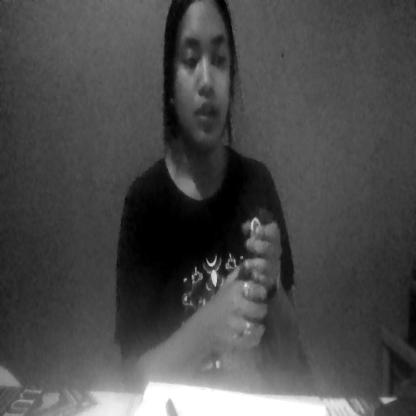Normal: (159, 2, 242, 160)
